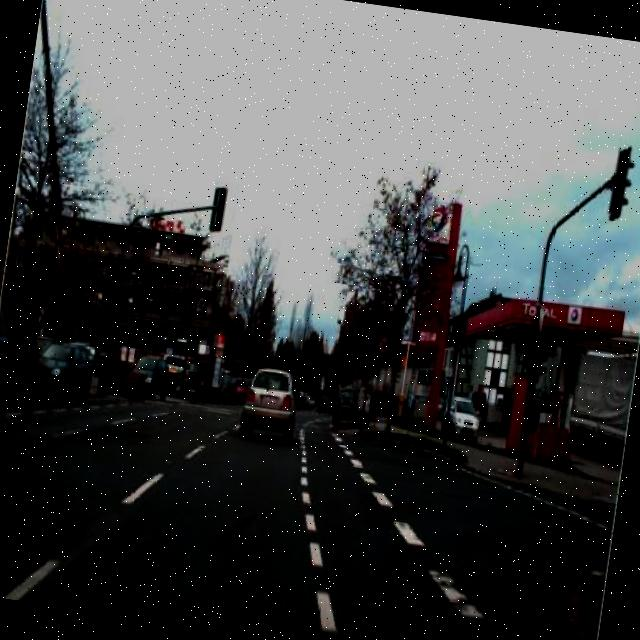Ograniczenie predkosci do 30: (376, 334, 390, 356)
